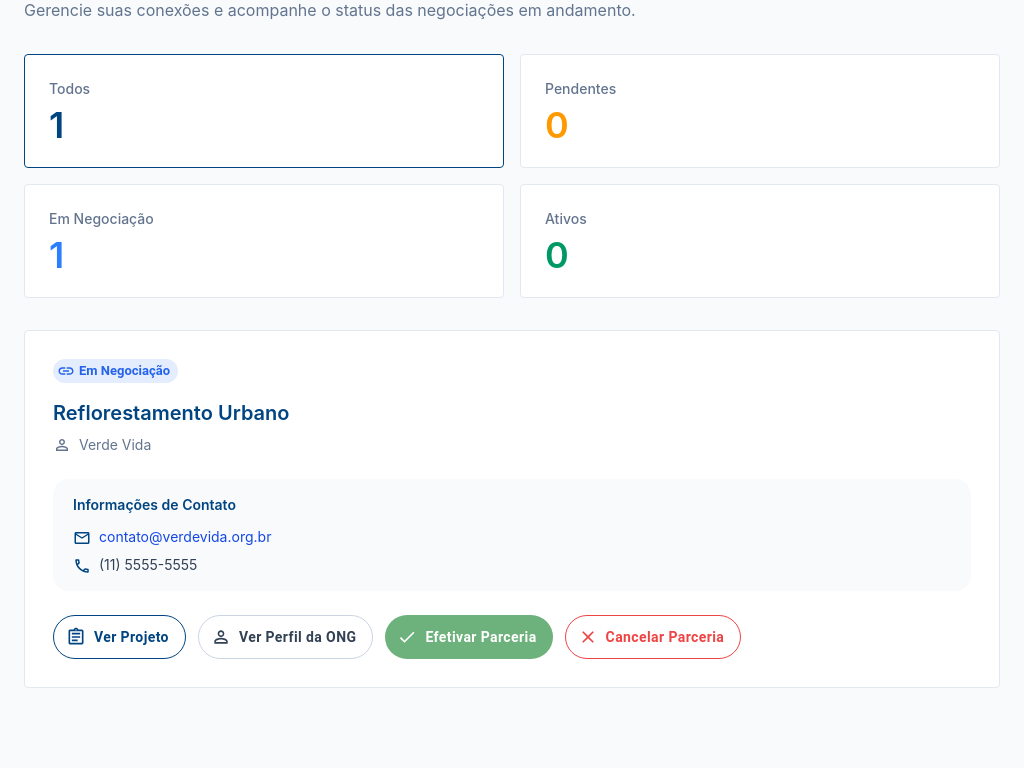
MyRelationshipsPage › Efetivar Parceria › clicar em Efetivar Parceria abre modal de confirmação
(page scrolled)
Click the button "Efetivar Parceria" at (469, 637), box 385,615 -> 553,659
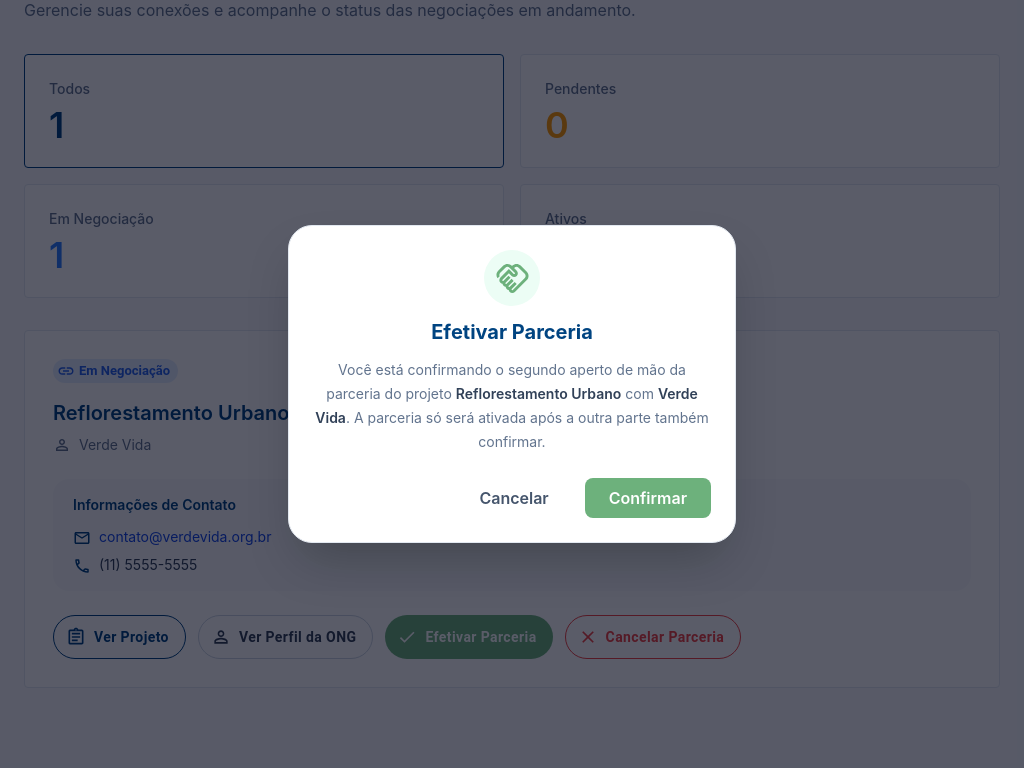
Expected: the dialog "Efetivar Parceria" is shown
